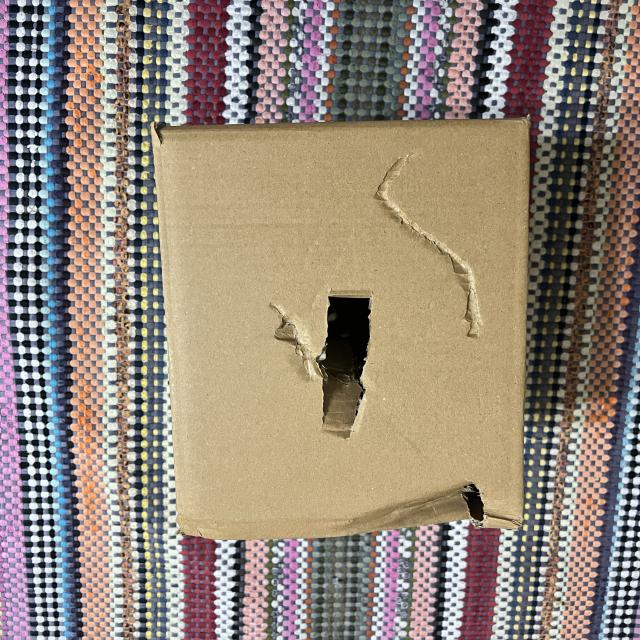damaged: (121, 100, 555, 544), (258, 268, 412, 465), (371, 141, 512, 343), (360, 476, 516, 535)
